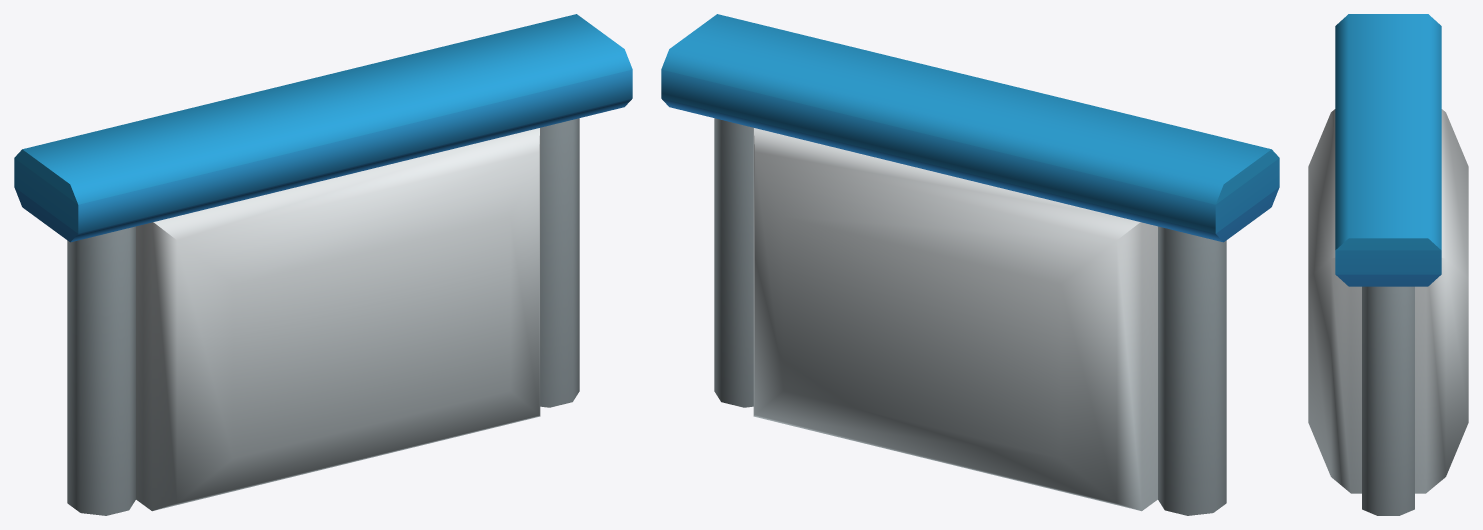
The model's file is railing-straight-padded-blue.glb.
3 renders of one model, left to right at view 1: azimuth 30°, elevation 25°; view 2: azimuth 150°, elevation 25°; view 3: azimuth 270°, elevation 25°, orthographic. The views are drawn at different scales.
Visible parts, largest first — view 1: railing_straight_padded_blue; view 2: railing_straight_padded_blue; view 3: railing_straight_padded_blue.
Boxes of the visible parts, x1,y1,x2,y2 form: railing_straight_padded_blue: (14,14,632,515); railing_straight_padded_blue: (661,14,1279,515); railing_straight_padded_blue: (1308,14,1468,515).
Size of the model in its own units: 2 by 1.2 by 0.6028.
Materials: 1 (1 with a texture image).
